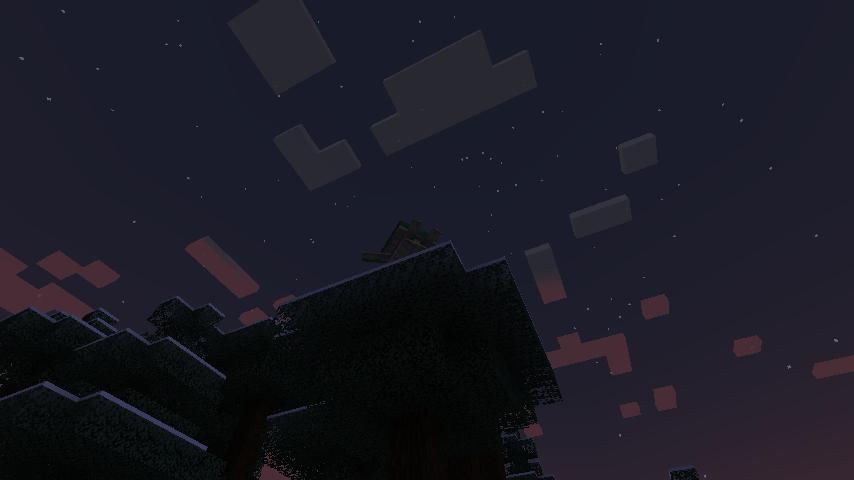turtle: (358, 215, 444, 275)
